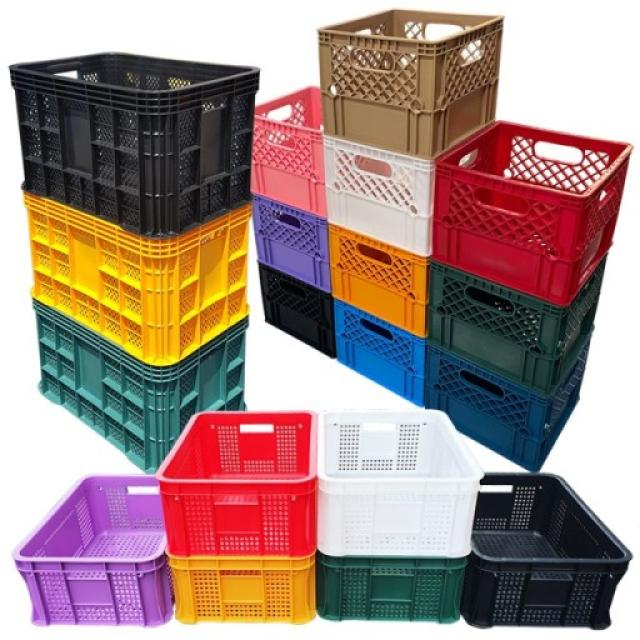basket: (0, 44, 261, 243), (414, 109, 634, 314), (15, 192, 254, 371), (19, 300, 253, 480), (315, 408, 485, 625), (312, 3, 505, 163), (463, 475, 632, 631), (11, 476, 173, 630), (430, 260, 606, 395), (156, 412, 316, 559), (426, 339, 591, 473), (304, 135, 453, 258), (305, 224, 451, 338), (310, 300, 449, 407), (233, 195, 353, 293), (237, 264, 357, 358), (246, 86, 327, 221), (170, 556, 316, 628), (317, 557, 467, 625)
